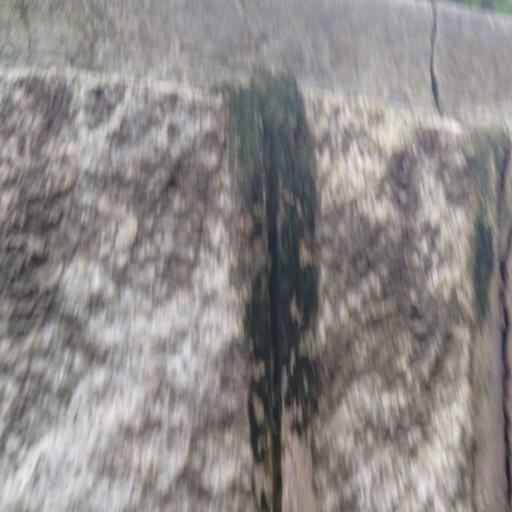algae: (196, 50, 396, 512)
